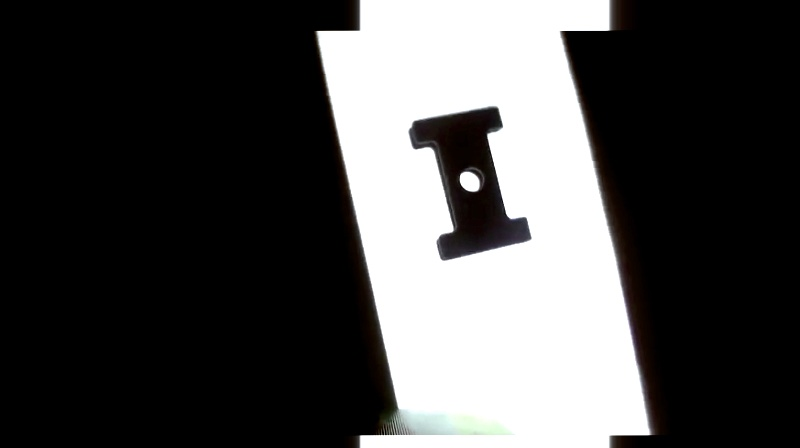O002: (406, 104, 535, 264)
